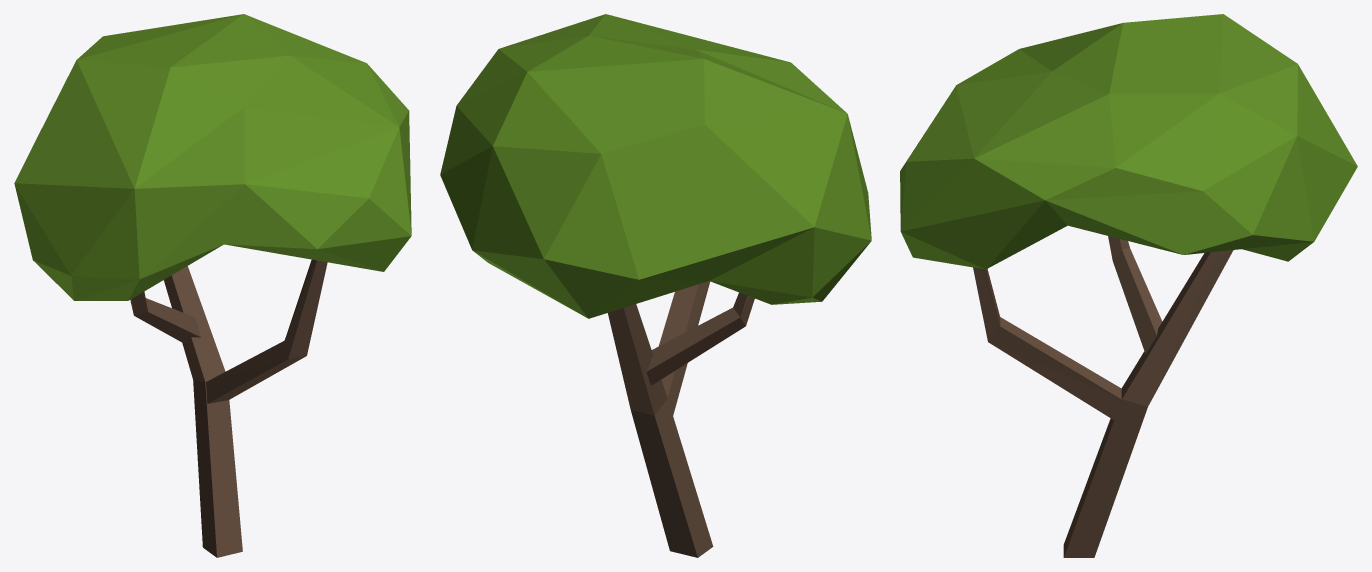
File: tree_4.fbx
The picture shows the model from 3 angles, left to right: view 1: azimuth 30°, elevation 25°; view 2: azimuth 150°, elevation 25°; view 3: azimuth 270°, elevation 25°; orthographic projection. The views are drawn at different scales.
Parts seen in each view (by area): view 1: tree_4; view 2: tree_4; view 3: tree_4.
Part boxes in pixels (x1,y1,x2,y2): tree_4: (14, 14, 411, 557); tree_4: (440, 14, 871, 557); tree_4: (900, 14, 1357, 557).
Bounding box in the file's own units: 425 × 575 × 466.
